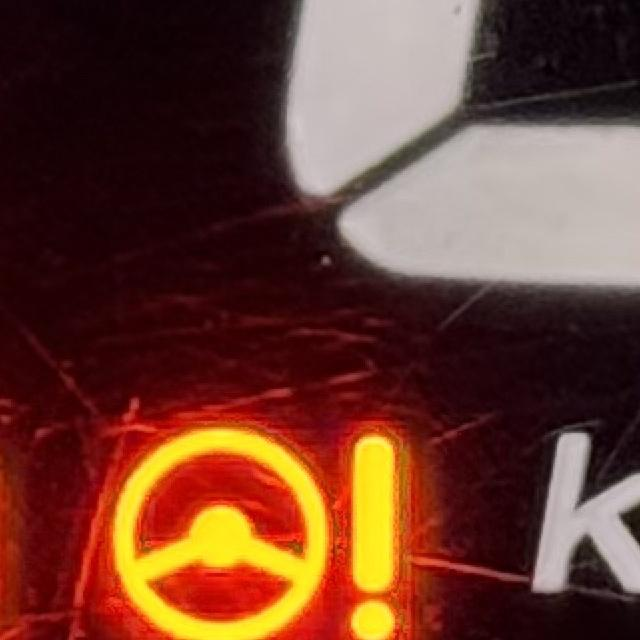Steering Wheel Locked: (109, 426, 404, 640)
